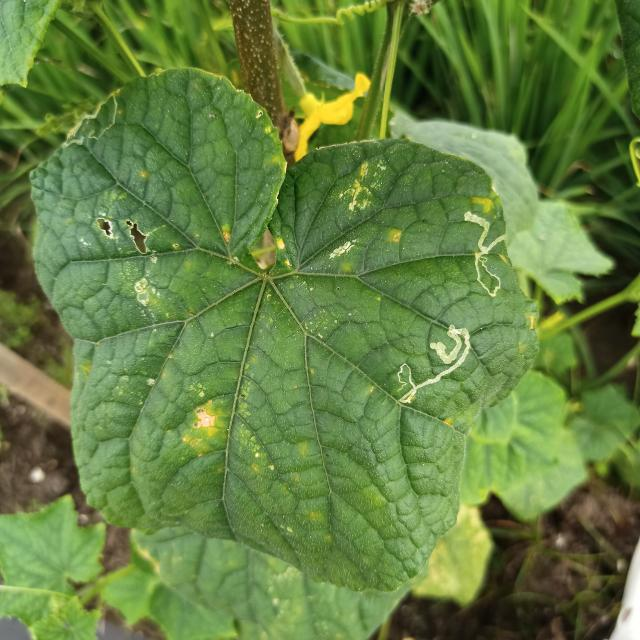disease_cucumber: (96, 215, 158, 314), (336, 157, 384, 212), (183, 396, 224, 456), (323, 237, 365, 260), (274, 238, 296, 268), (469, 193, 498, 214), (524, 310, 539, 332), (386, 228, 404, 245), (221, 229, 234, 243)
